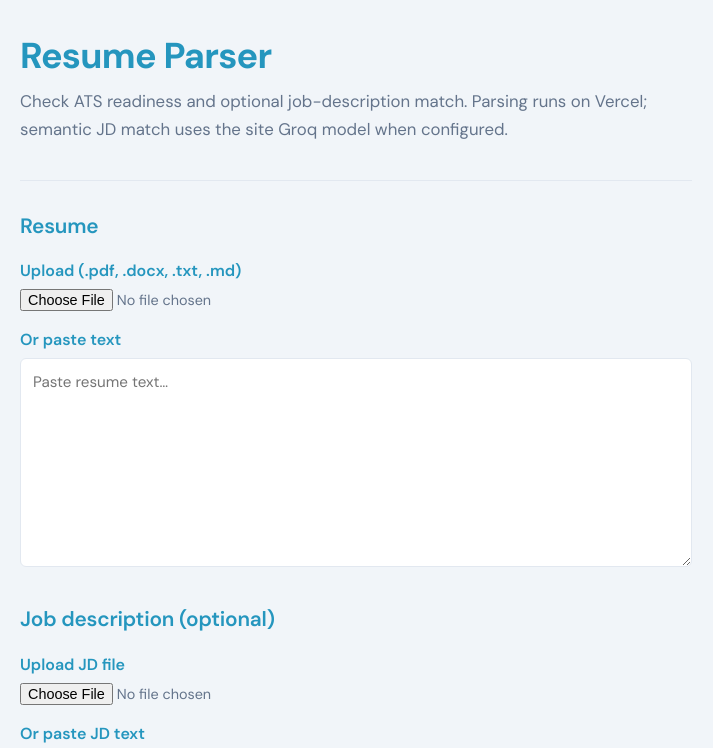
Test: ResumeParser page › resets form and clears report
Type "resume body" into the text box labelled "Or paste text".
click(356, 463); type("resume body")  # box [20,358,692,567]
(page scrolled)
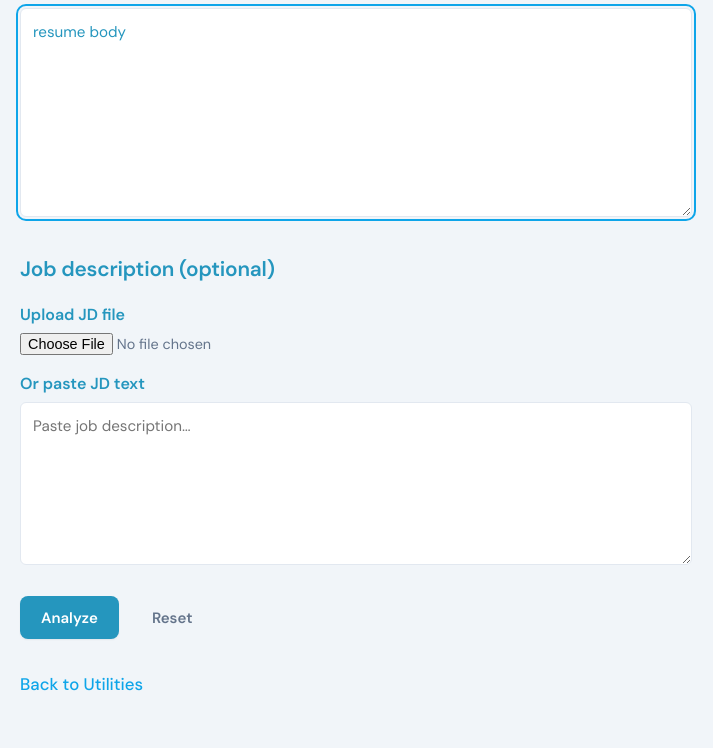
Click the button "Analyze".
click(69, 618)  # box [20,596,119,639]
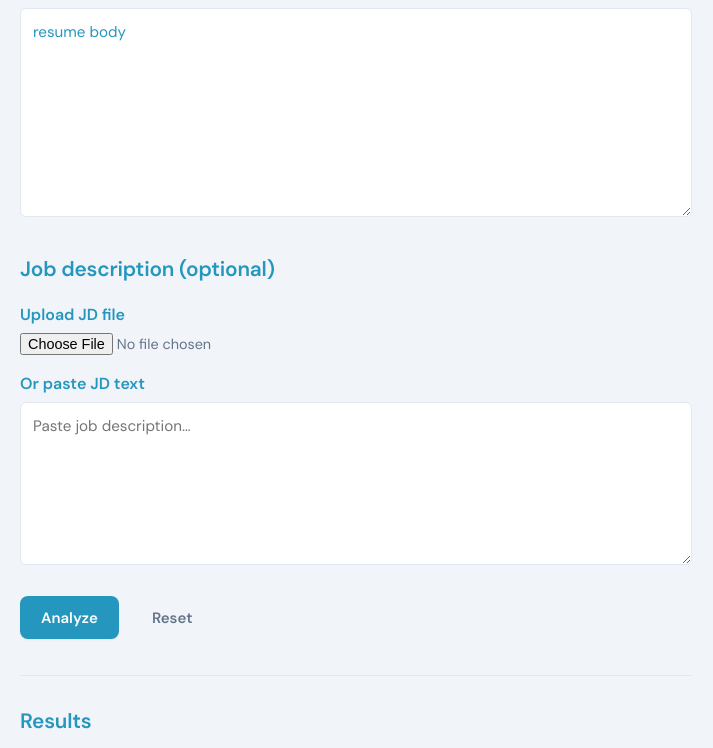
expect the heading "Results" is shown: met, box [20,707,92,734]
Click the button "Reset".
click(172, 618)  # box [131,596,214,639]
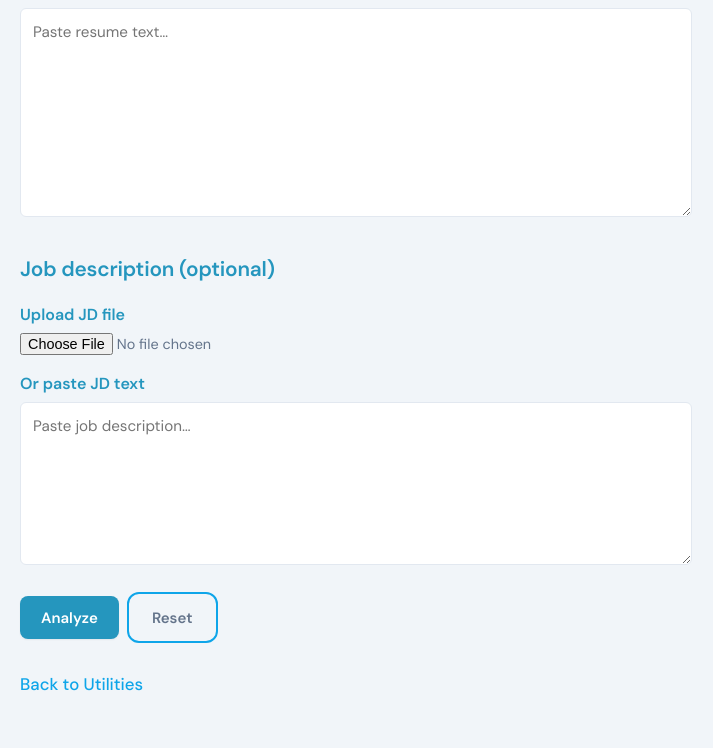
expect the heading "Results" is gone: met
expect the text box labelled "Or paste text" is empty: met, box [20,8,692,217]
